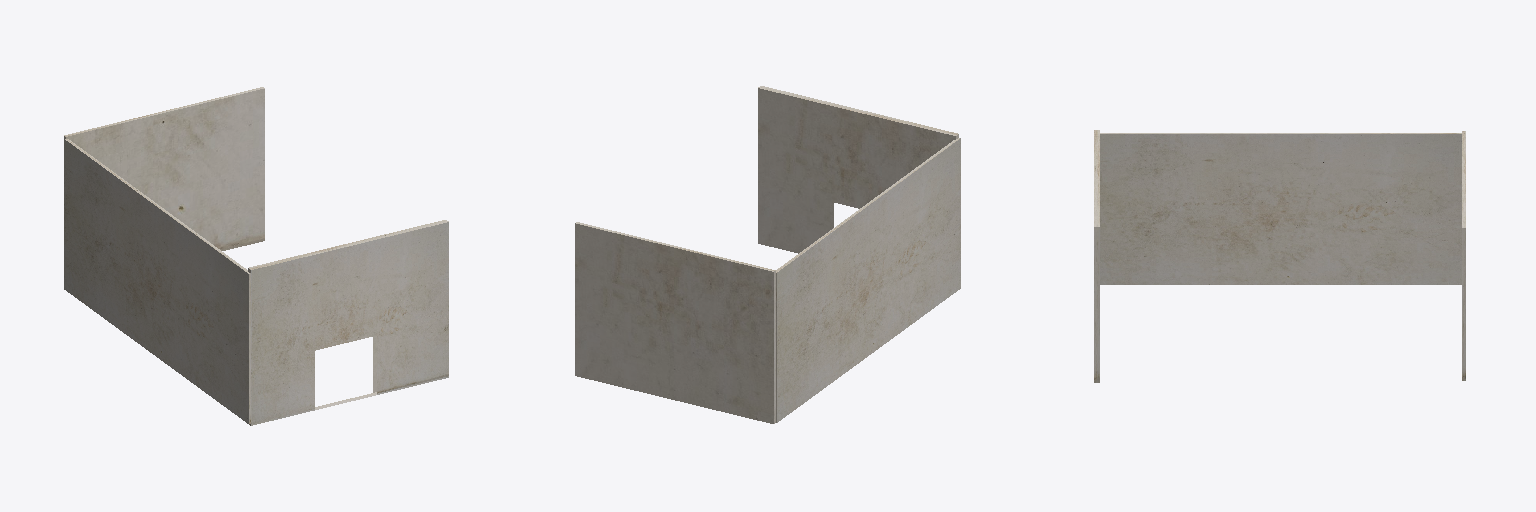
3 views of the same model, side by side, from view 1: azimuth 30°, elevation 25°; view 2: azimuth 150°, elevation 25°; view 3: azimuth 270°, elevation 25° (orthographic).
Visible parts, largest first — view 1: pCube17, pCube15, pCube18; view 2: pCube18, pCube17, pCube15; view 3: pCube17, pCube15, pCube18.
Boxes of the visible parts, x1,y1,x2,y2 form: pCube17: [64, 139, 250, 423]; pCube15: [248, 220, 448, 425]; pCube18: [64, 87, 264, 250]; pCube18: [575, 222, 775, 423]; pCube17: [776, 138, 960, 422]; pCube15: [758, 86, 958, 253]; pCube17: [1100, 133, 1461, 284]; pCube15: [1094, 130, 1099, 382]; pCube18: [1462, 131, 1465, 380].
Size of the model in its own units: 3.69 by 2.74 by 5.95.
2 materials, 1 textured.